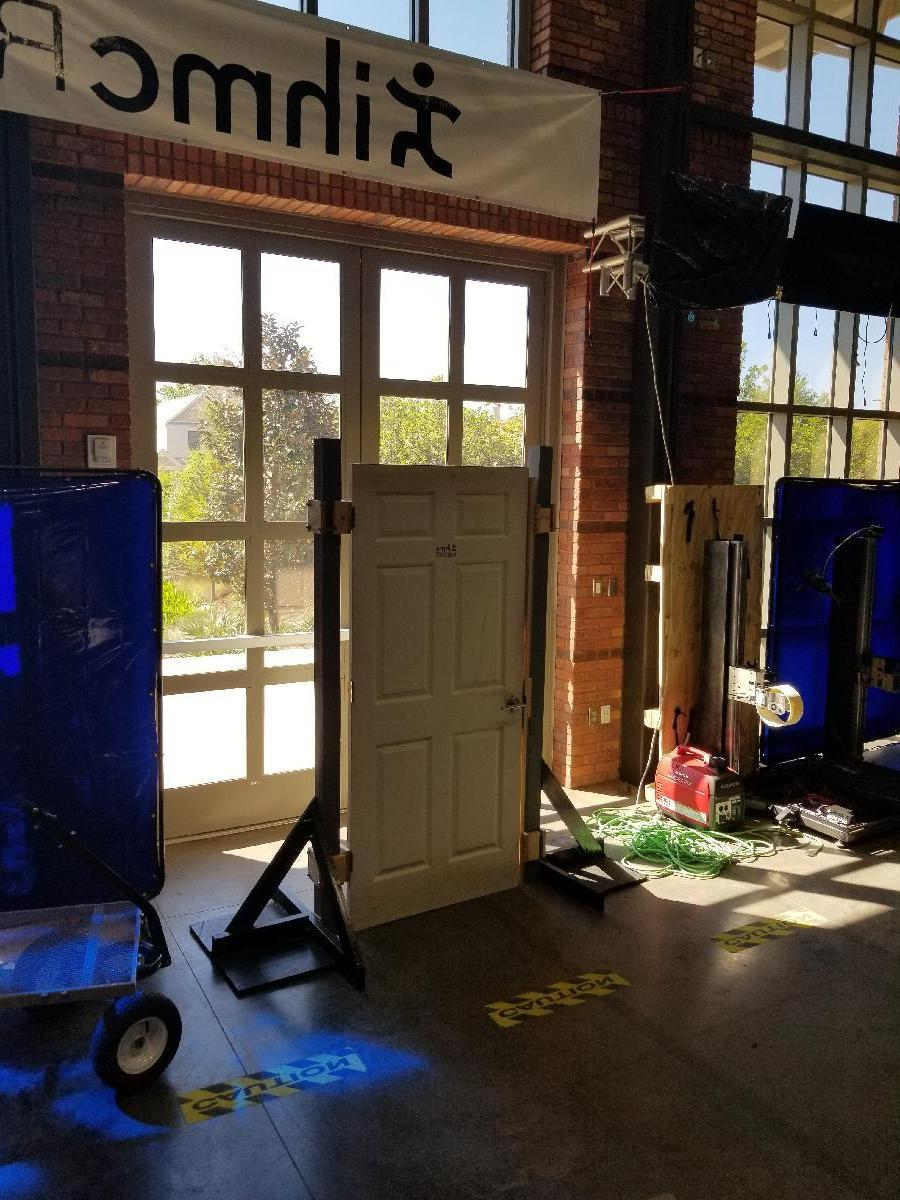door: (338, 458, 534, 929)
handle: (497, 691, 529, 719)
